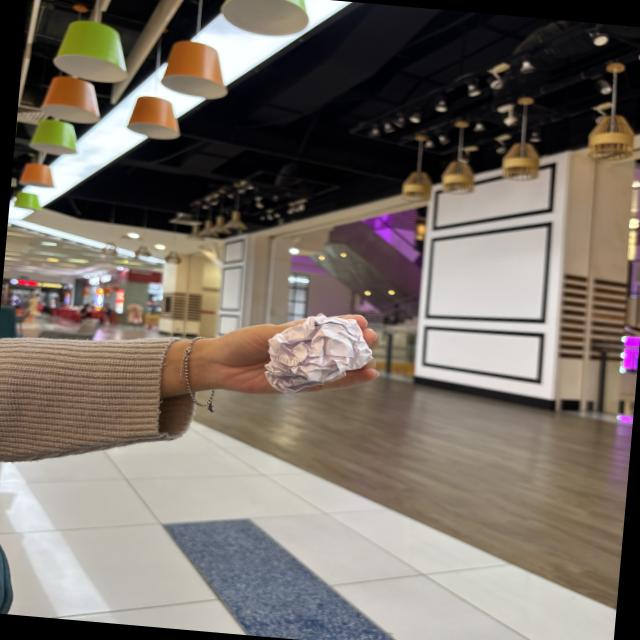crumpled_paper: (258, 298, 384, 398)
